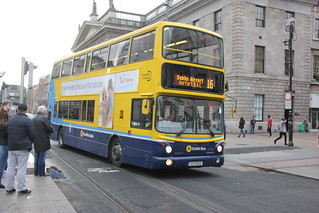bus: (47, 21, 224, 172)
